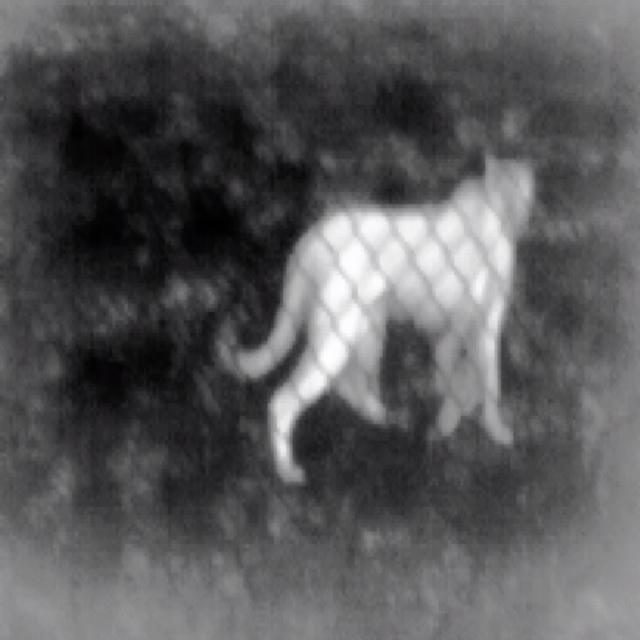cheetah: (229, 150, 533, 482)
